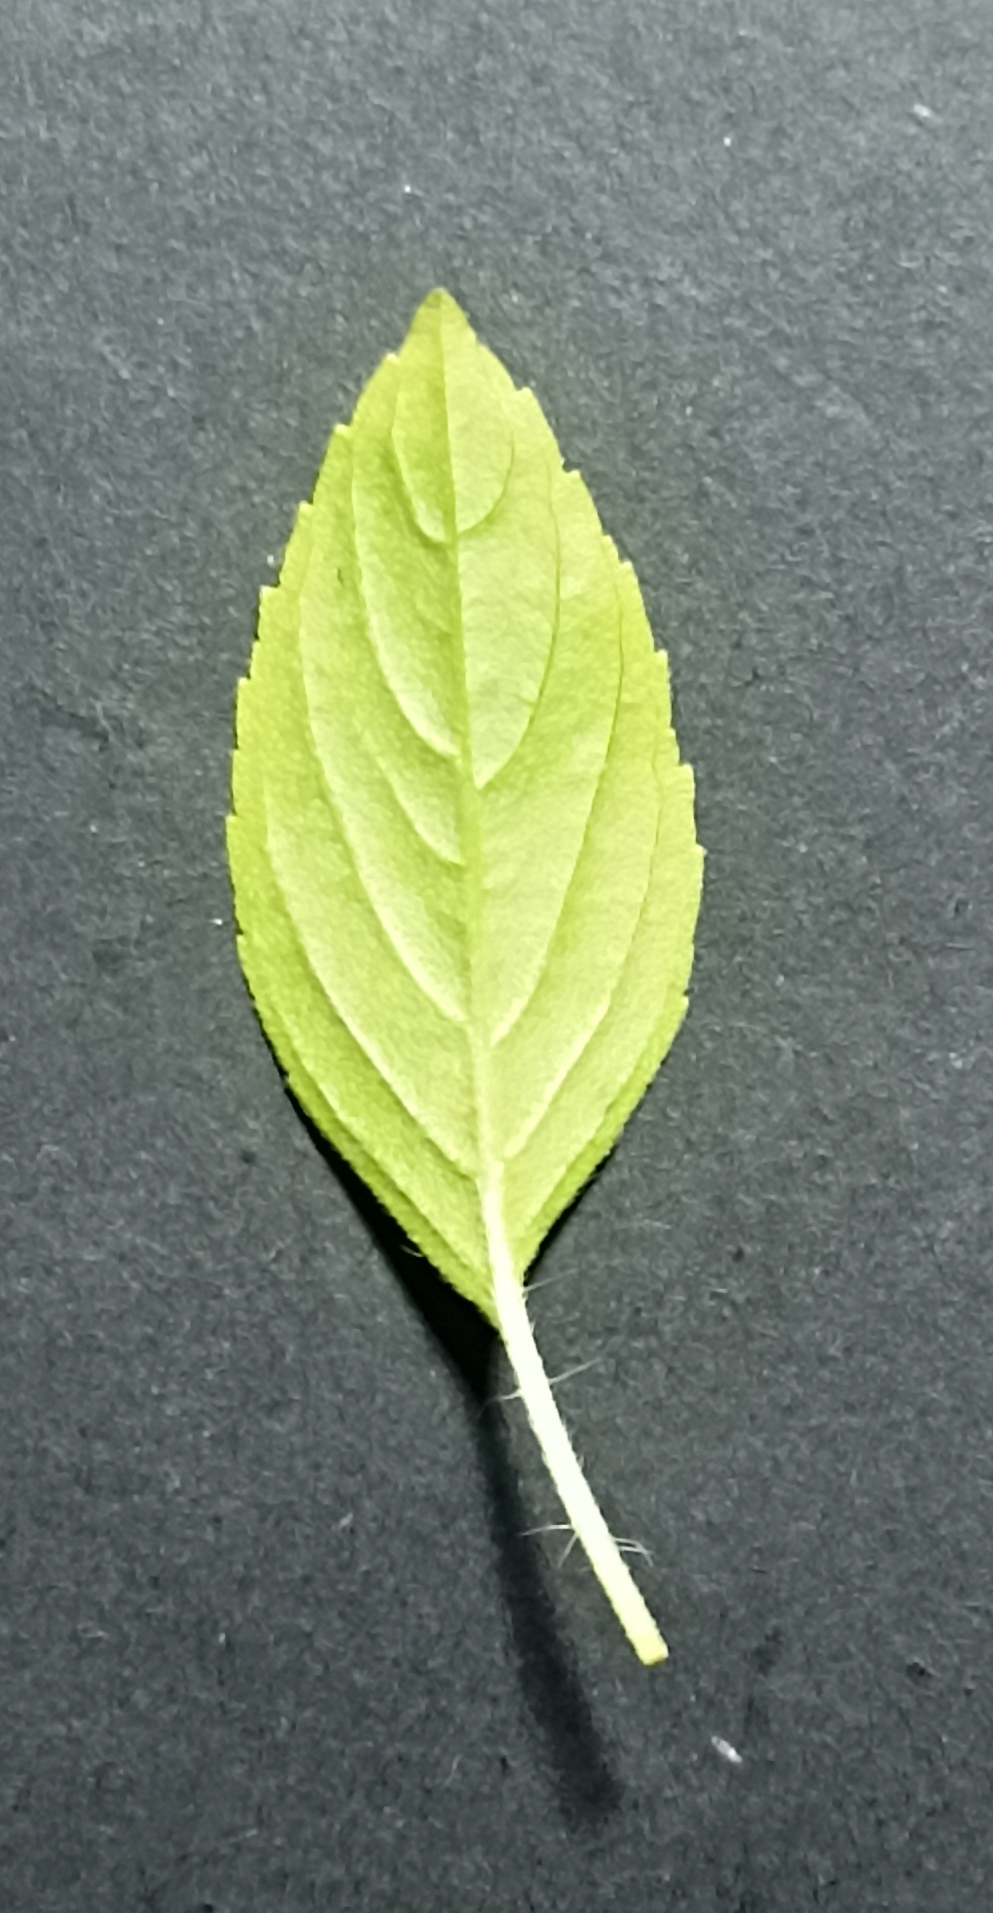Healthy: (181, 269, 729, 1353)
